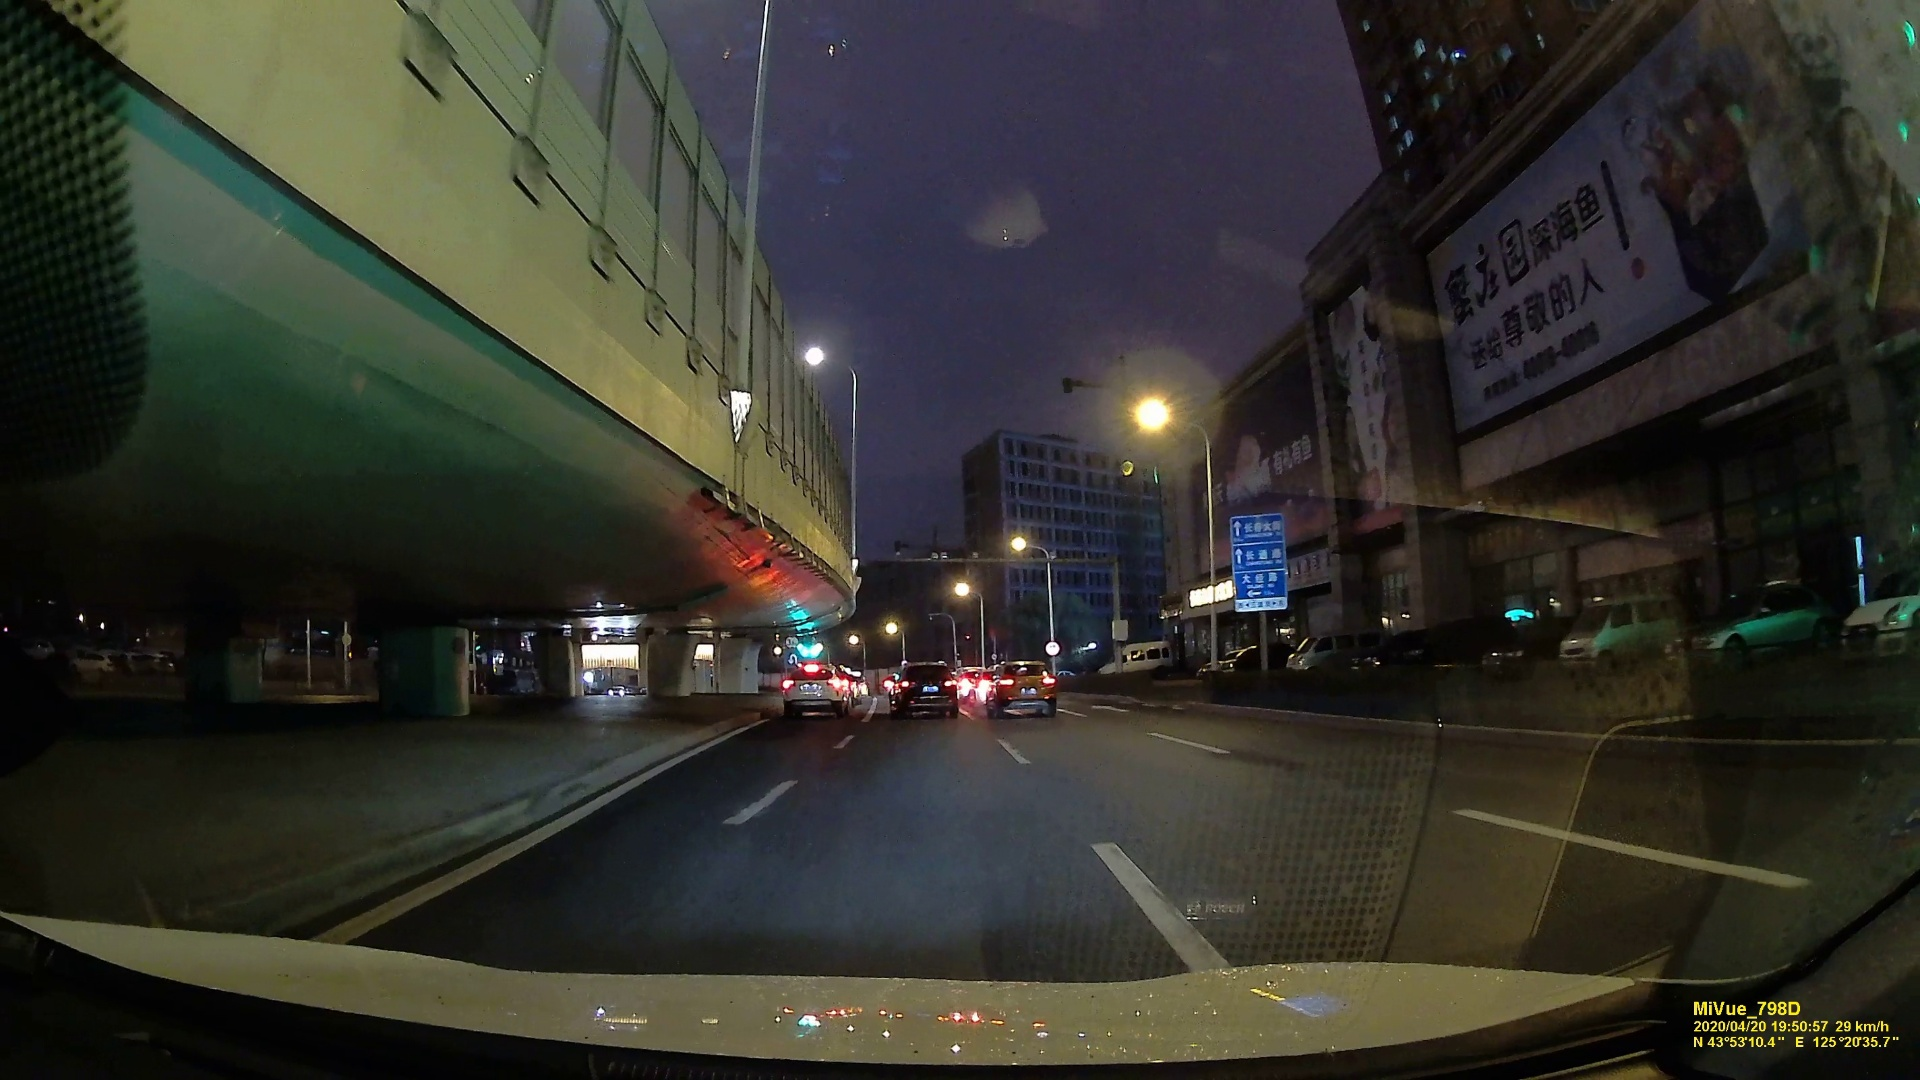minibus: (1555, 597, 1669, 676), (1288, 628, 1370, 671), (1098, 640, 1168, 676)
traffic_sign: (1233, 516, 1286, 611)
vehicle: (988, 659, 1056, 717), (890, 662, 955, 716), (782, 665, 849, 716)
